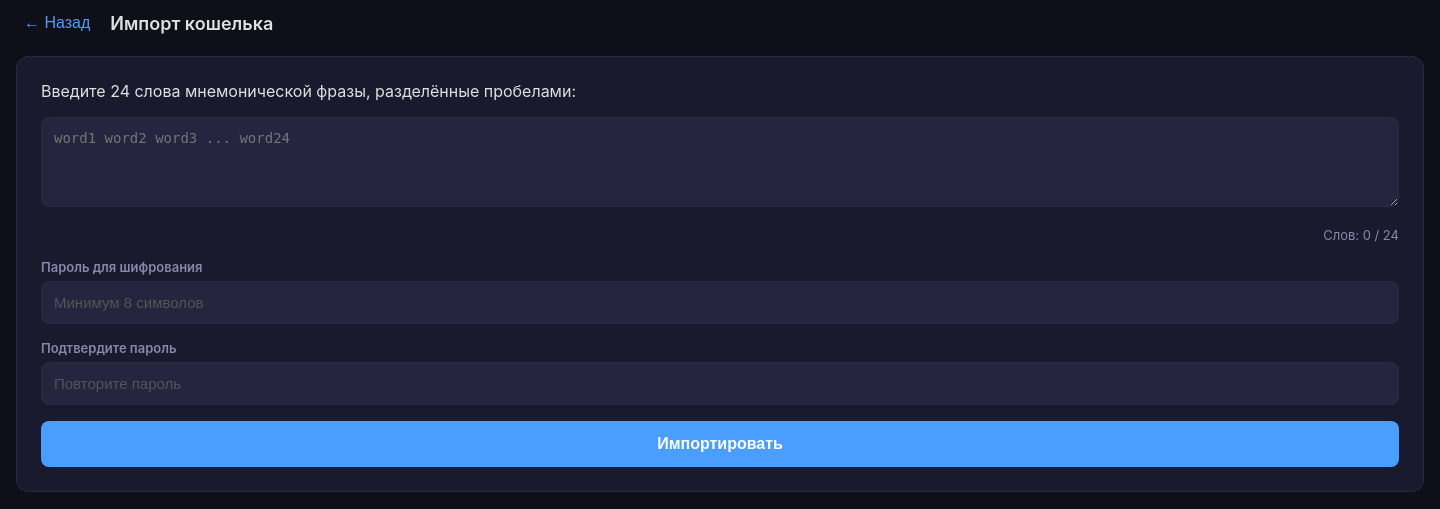
ImportWallet › updates word counter as user types
The image size is (1440, 509).
In the text box with placeholder "word1 word2 word3 ... word24": (720, 162) top-left (41, 117), bottom-right (1399, 207), type "one two three"
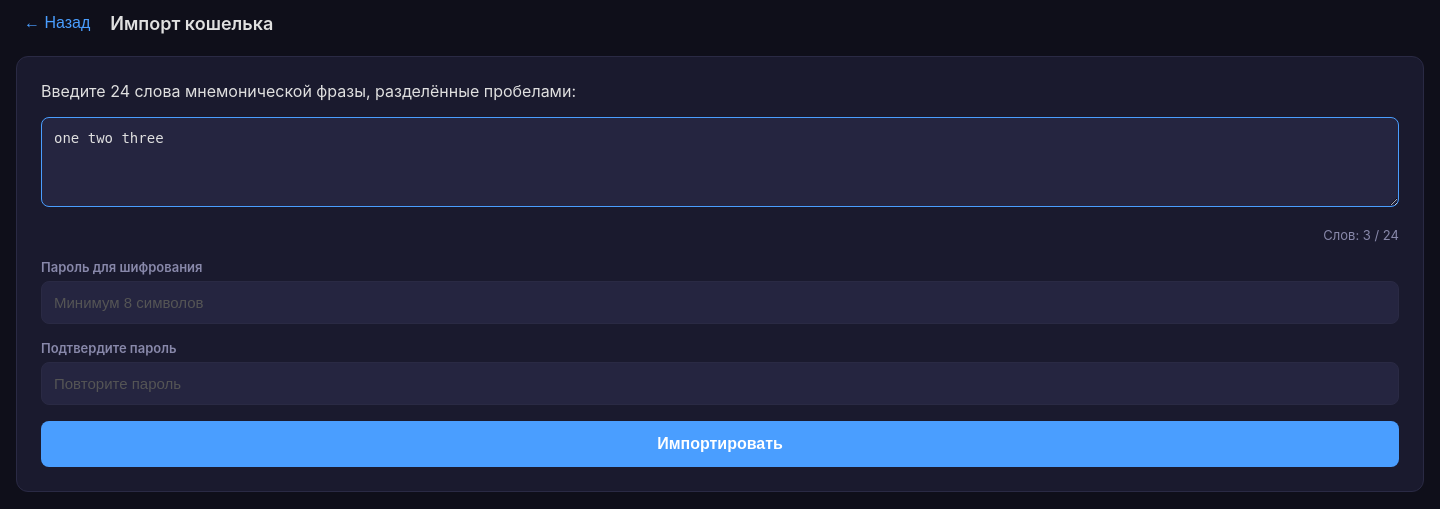
Expected: the text "Слов: 3 / 24" is shown, top-left (1323, 227), bottom-right (1399, 243)
